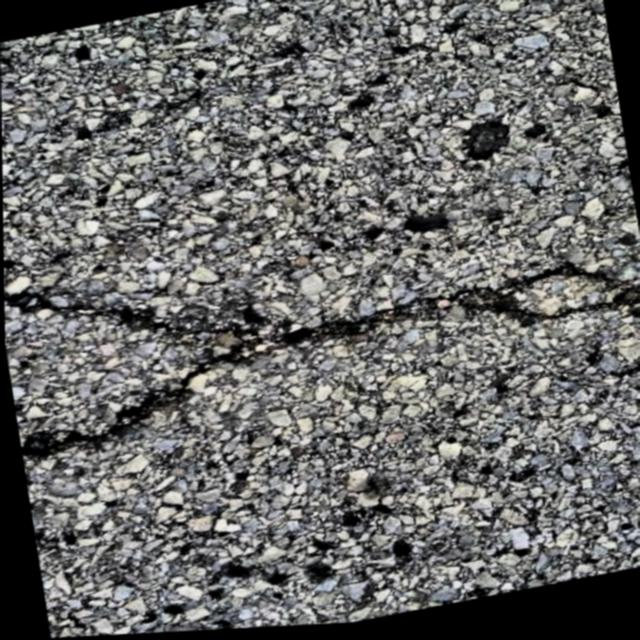cracks: (4, 264, 640, 456)
